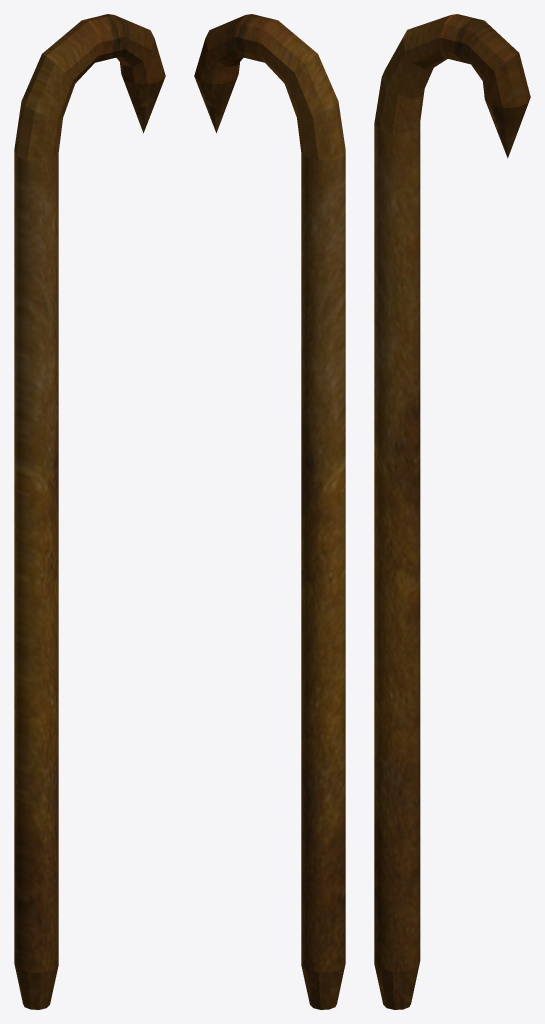
File: bronze_hook.FBX
3 views of the same model, side by side, from view 1: azimuth 30°, elevation 25°; view 2: azimuth 150°, elevation 25°; view 3: azimuth 330°, elevation 25° (orthographic). The views are drawn at different scales.
Parts seen in each view (by area): view 1: Cylinder001; view 2: Cylinder001; view 3: Cylinder001.
Boxes of the visible parts, <box> form: Cylinder001: <box>14,14,165,1009</box>; Cylinder001: <box>194,14,345,1009</box>; Cylinder001: <box>374,14,530,1009</box>.
Size of the model in its own units: 37.59 by 239 by 9.51.
Materials: 1 (1 with a texture image).
